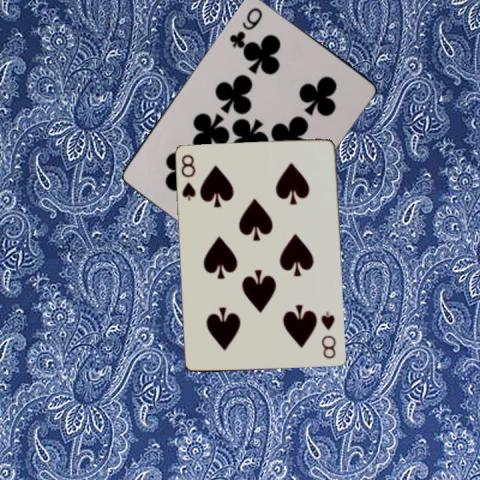8s: (318, 308, 337, 360), (179, 151, 197, 202)
9c: (226, 4, 264, 49)
